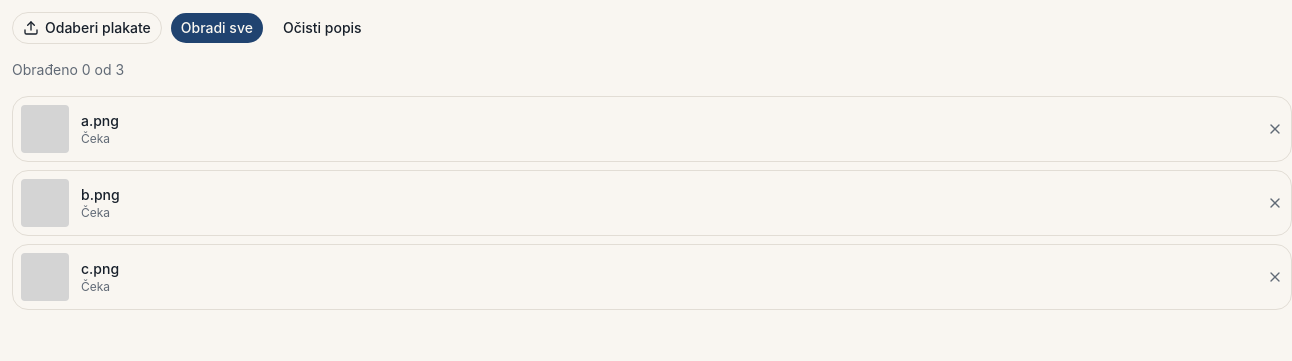
bulk poster processing › parses each poster as its own source, not as several images of one event
The width and height of the screenshot is (1292, 361).
Earlier steps of the test are not shown.
Step 1. Click the button "Obradi sve" → (217, 28), box [170,12,264,44]
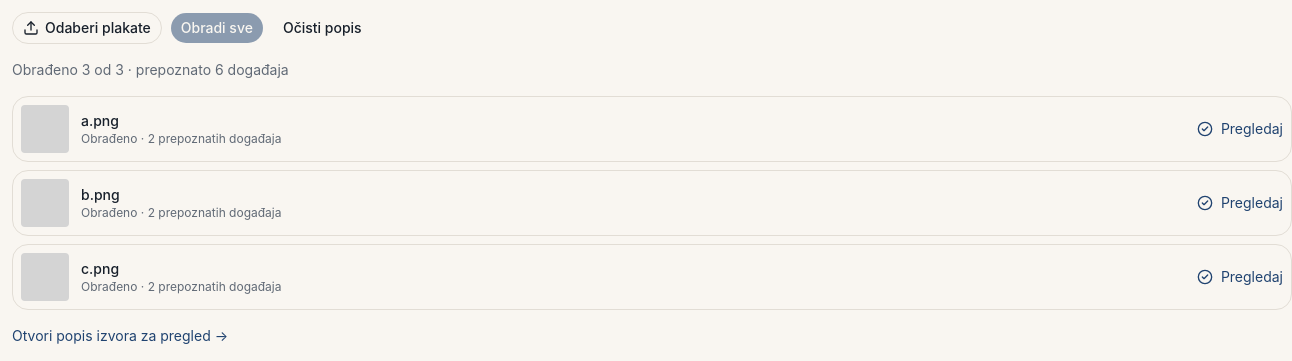
Check: the message "Obrađeno 3 od 3 · prepoznato 6 događaja" is shown, box [12,61,289,78]
